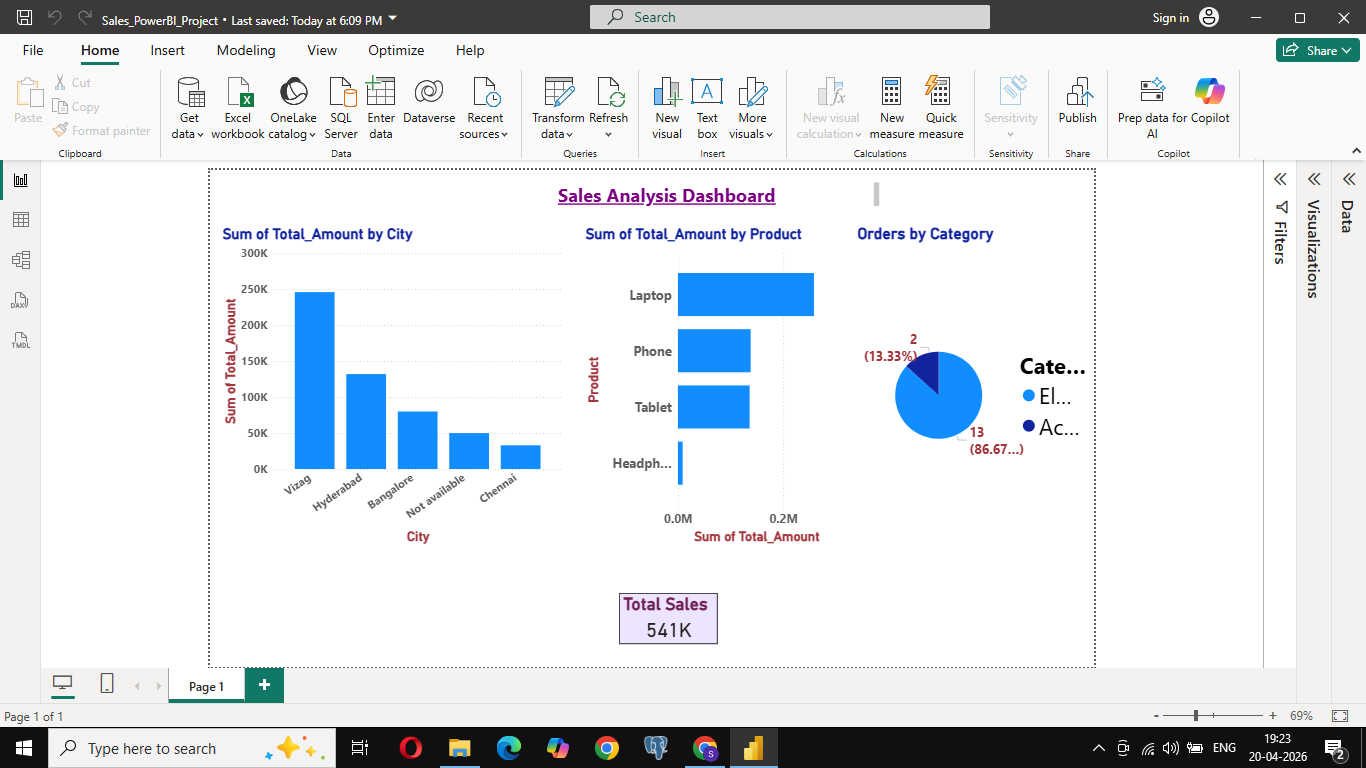

This screenshot's page, from the dashboard's own definition file:
{"tool":"powerbi","page":{"name":"Page 1","canvas":[1280,720],"ordinal":0},"visuals":[{"type":"columnChart","fields":{"Category":["Data.City"],"Y":["Sum(Data.Total_Amount)"]},"box":[13,79.7,502.9,466.7],"z":0},{"type":"barChart","fields":{"Category":["Data.Product"],"Y":["Sum(Data.Total_Amount)"]},"box":[539.1,79.7,394.2,466.7],"z":1000},{"type":"pieChart","title":"Orders by Category","fields":{"Category":["Data.Category"],"Y":["CountNonNull(Data.Order_ID)"]},"box":[933.3,79.7,346.4,466.7],"z":2000},{"type":"textbox","box":[358,13,617.4,44.9],"z":2001},{"type":"card","title":"Total Sales","fields":{"Values":["Sum(Data.Total_Amount)"]},"box":[592.8,613,143.5,73.9],"z":2002}]}

Visuals, with their boxes on the page's 1280x720 design canvas (x1, y1, x2, y2). These are canvas units, not pixel positions in the 1366x768 screenshot, which may show the page scaled, cropped or inside an application window:
columnChart - Data.City x Sum(Data.Total_Amount): (left=13, top=80, right=516, bottom=546)
barChart - Data.Product x Sum(Data.Total_Amount): (left=539, top=80, right=933, bottom=546)
"Orders by Category" pieChart: (left=933, top=80, right=1280, bottom=546)
textbox: (left=358, top=13, right=975, bottom=58)
"Total Sales" card: (left=593, top=613, right=736, bottom=687)
